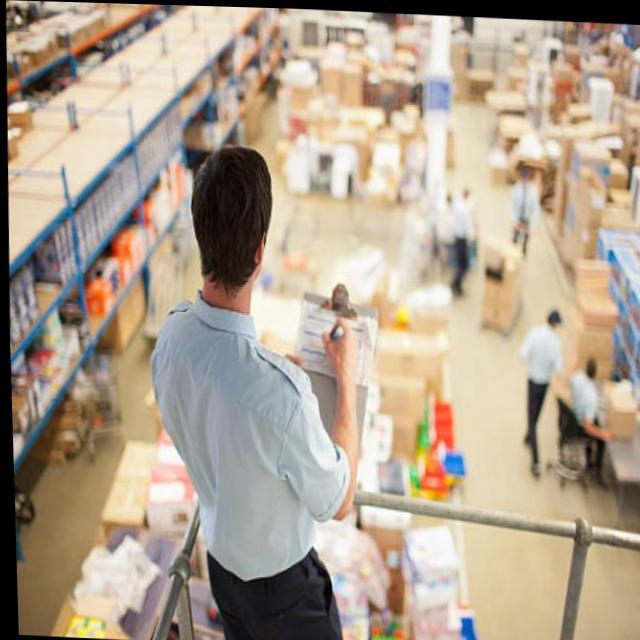no helmet: (183, 137, 280, 336)
